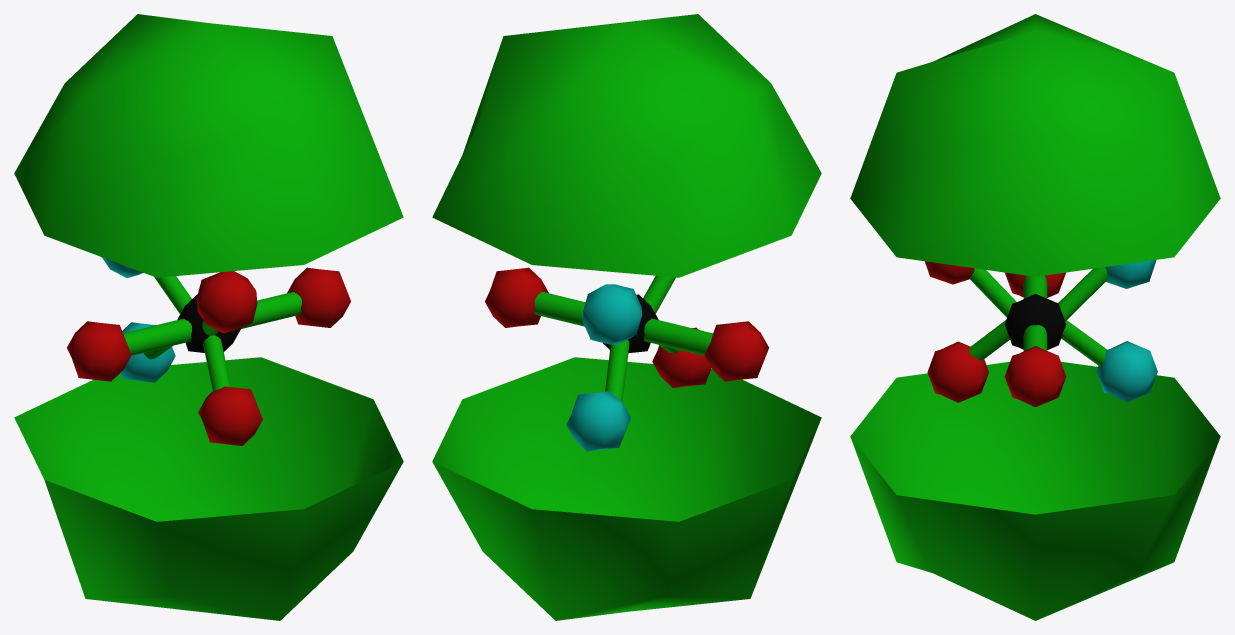
The model's file is MagnesiumSulphate.fbx.
The picture shows the model from 3 angles, left to right: view 1: azimuth 30°, elevation 25°; view 2: azimuth 150°, elevation 25°; view 3: azimuth 270°, elevation 25°; orthographic projection. The views are drawn at different scales.
Parts seen in each view (by area): view 1: polySurface3; view 2: polySurface3; view 3: polySurface3.
Boxes of the visible parts, x1,y1,x2,y2 form: polySurface3: (14, 14, 403, 620); polySurface3: (432, 14, 821, 620); polySurface3: (850, 14, 1220, 620).
Bounding box in the file's own units: 24 × 41 × 24.
